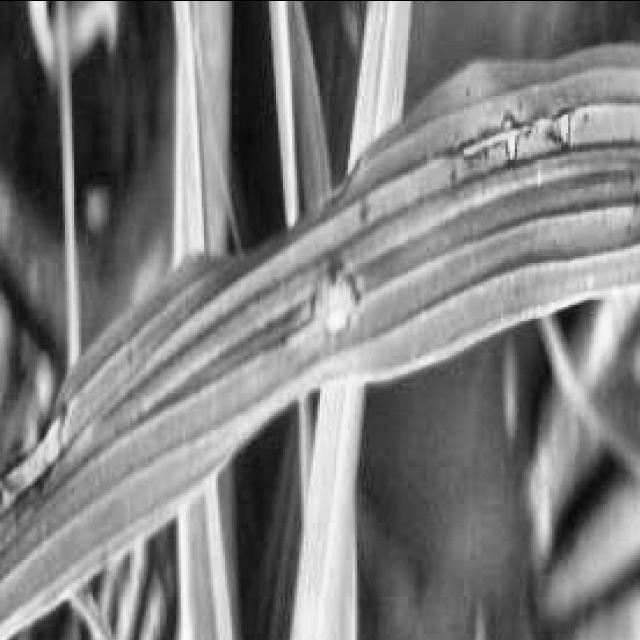Leaf_Blast: (283, 97, 577, 369), (619, 157, 640, 245)
